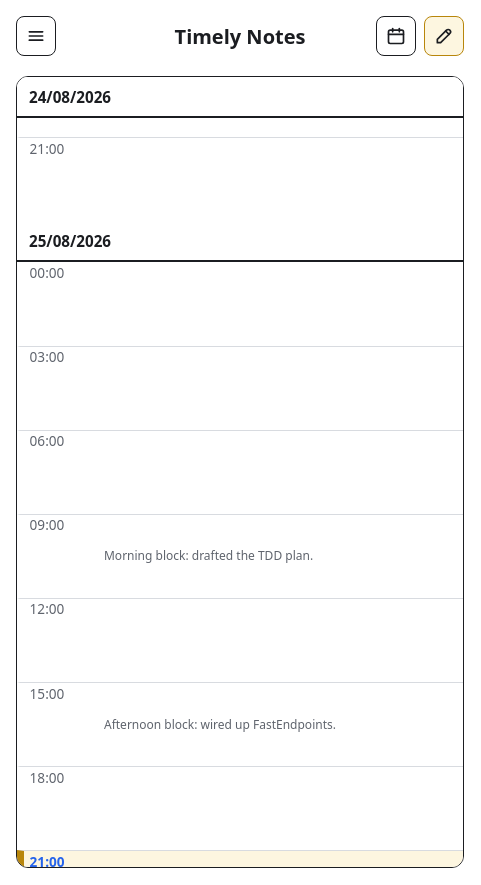
Scenario: App — live clock › notices only once the window has carried today off screen
(page scrolled)
Expected: the text "Viewing " is not shown
Click the option named "06:00 – 09:00".
click(47, 441)  # box [17,430,463,514]
Wait 120000 ms
(page scrolled)
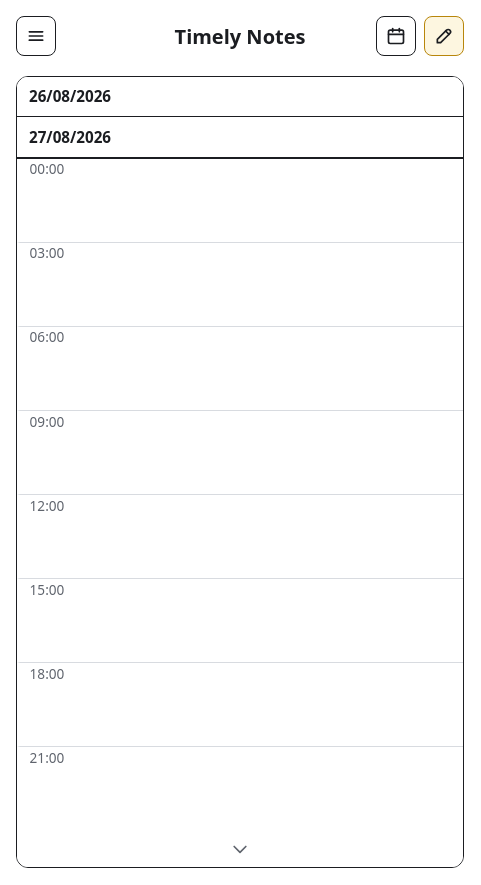
Expected: the text "Viewing " is not shown
Click the button named "Later days".
click(240, 849)  # box [17,831,463,867]
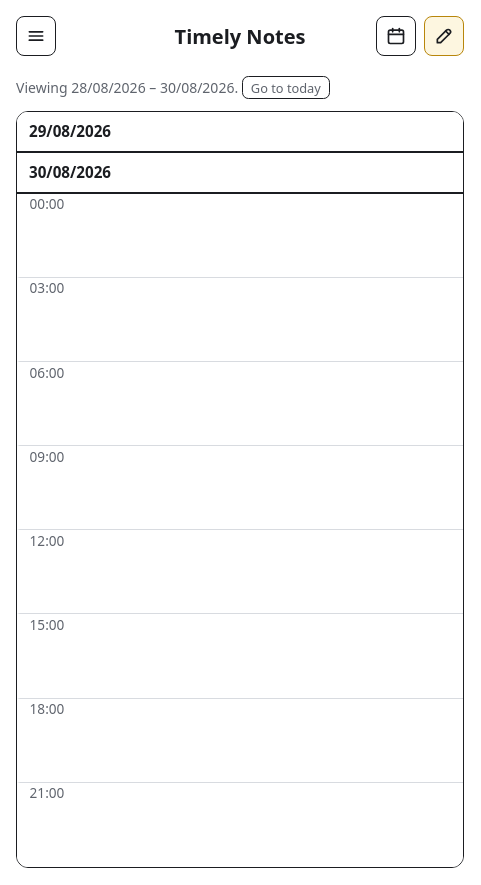
Result: the text "Viewing 28/08/2026 – 30/08/2026. Go to today" is shown at [16,76,330,99]
Result: the button "Go to today" is shown at [242,76,330,99]
